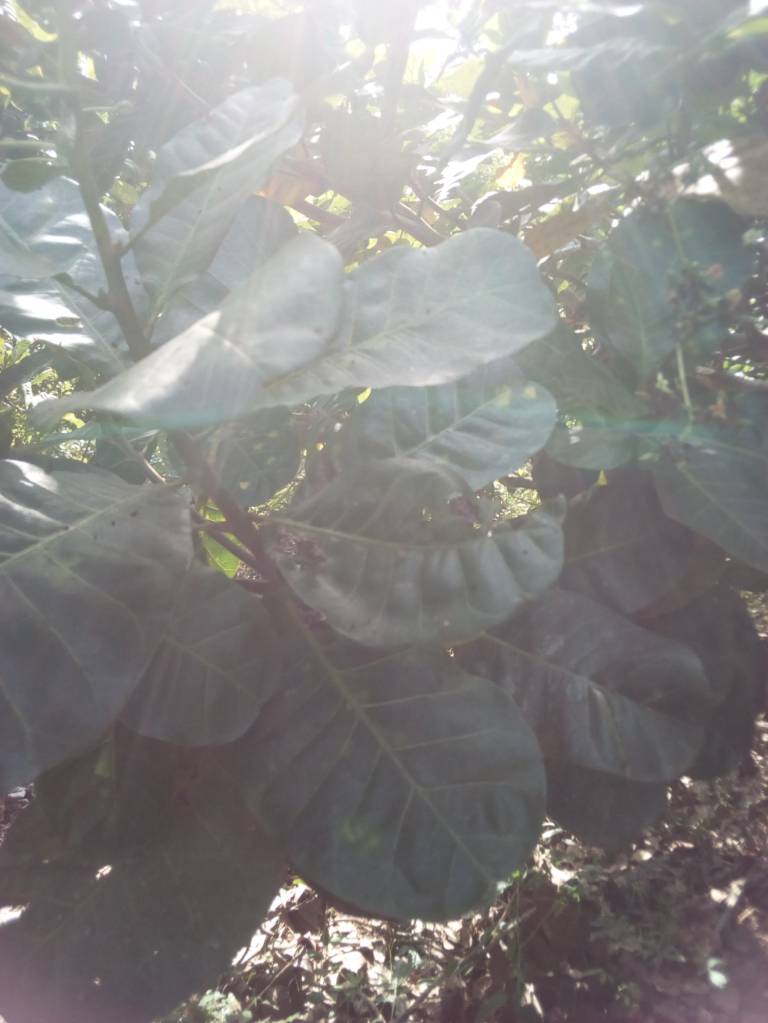Helopeltis anacardii: (89, 240, 399, 430), (272, 505, 569, 642)
